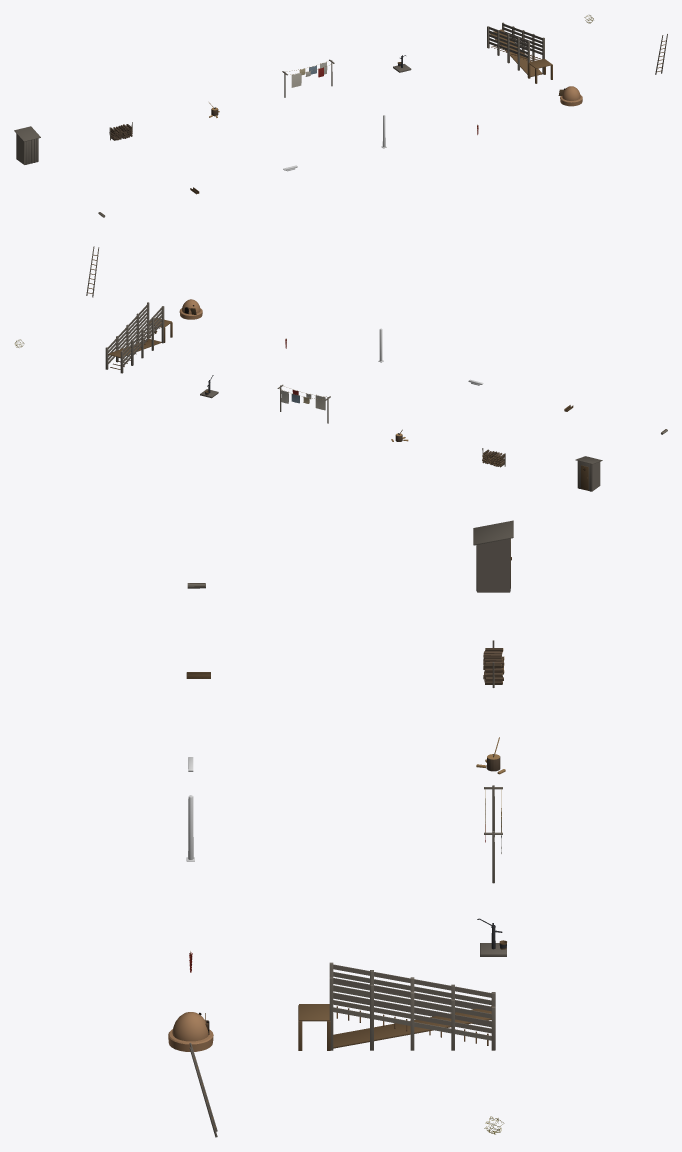
File: townkit.fbx
3 renders of one model, top to bottom at view 1: azimuth 30°, elevation 25°; view 2: azimuth 150°, elevation 25°; view 3: azimuth 270°, elevation 25°, orthographic. The views are drawn at different scales.
Visible parts, largest first — view 1: yd_chute, yd_outhouse, yd_washline, ab_horno, yd_woodpile; view 2: yd_chute, yd_outhouse, yd_washline, ab_horno; view 3: yd_chute, yd_outhouse, ab_horno.
Part boxes in pixels (bbox=[...]): yd_chute: bbox=[487, 22, 552, 83]; yd_outhouse: bbox=[14, 126, 40, 164]; yd_washline: bbox=[282, 59, 334, 97]; ab_horno: bbox=[558, 86, 582, 106]; yd_woodpile: bbox=[109, 122, 132, 140]; yd_chute: bbox=[105, 302, 172, 373]; yd_outhouse: bbox=[575, 456, 602, 491]; yd_washline: bbox=[277, 384, 330, 423]; ab_horno: bbox=[179, 299, 202, 319]; yd_chute: bbox=[298, 962, 495, 1050]; yd_outhouse: bbox=[473, 520, 513, 592]; ab_horno: bbox=[168, 1012, 213, 1051].
Bounding box in the file's own units: 49.11 × 4.51 × 12.79.
